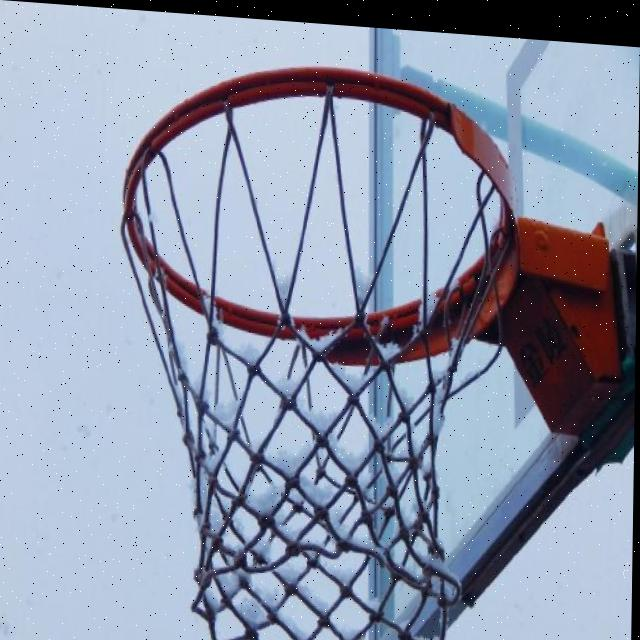hoop: (96, 77, 564, 640)
